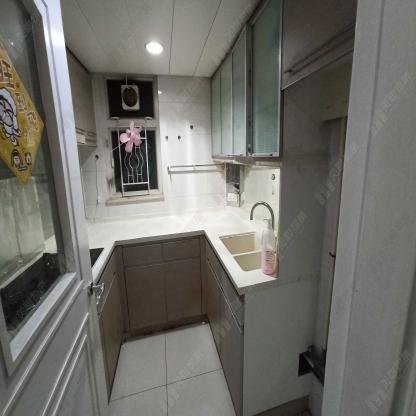Cupboard: (114, 236, 246, 415), (212, 1, 283, 159)
Exhaust Fan: (120, 84, 140, 110)
Faucet: (249, 197, 276, 220)
Sink: (218, 231, 263, 272)
Stove: (1, 251, 61, 329)
